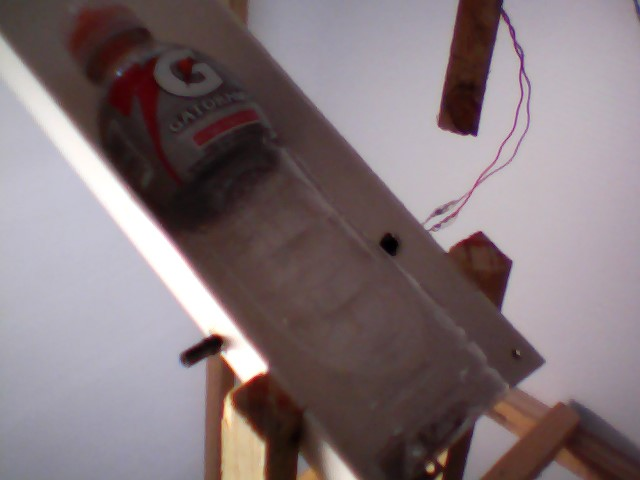plastico: (66, 2, 520, 480)
